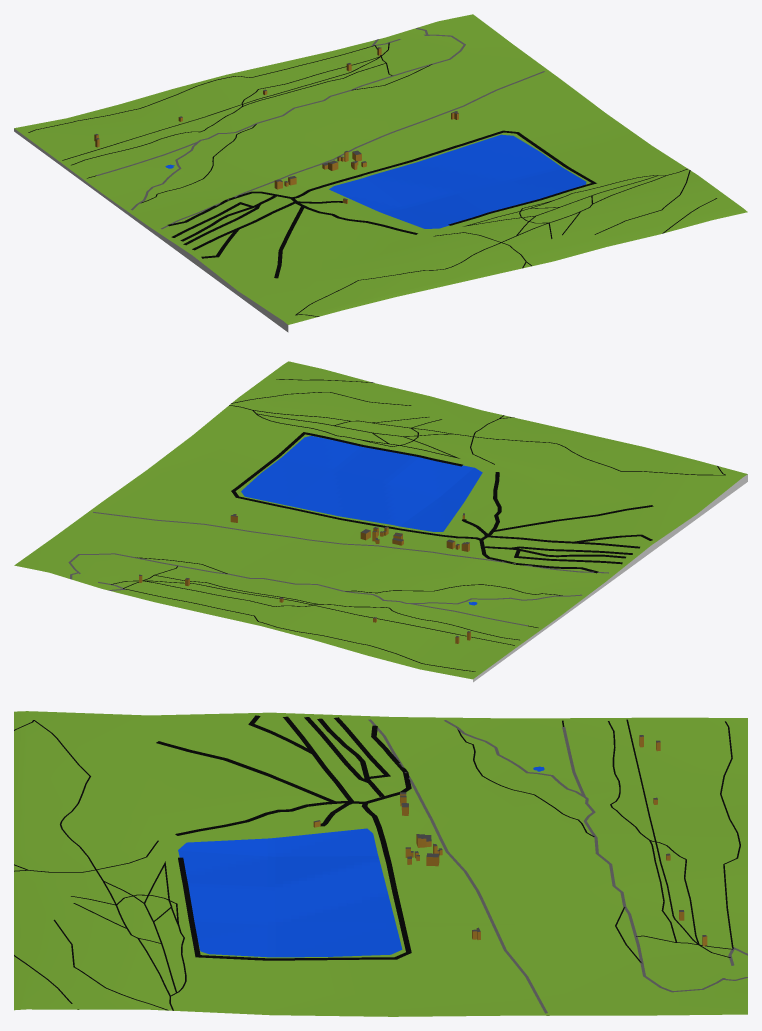
Rendered from tile_00_01.glb.
3 views of the same model, one above another, from view 1: azimuth 30°, elevation 25°; view 2: azimuth 150°, elevation 25°; view 3: azimuth 270°, elevation 25° (orthographic). The views are drawn at different scales.
Visible parts, largest first — view 1: Terrain_00_01, Ub_small.osm_water_00_01, Ub_small.osm_paths_footway_00_01, Ub_small.osm_roads_residential_00_01, Ub_small.osm_roads_service_00_01, Ub_small.osm_roads_unclassified_00_01, Ub_small.osm_buildings_00_01; view 2: Terrain_00_01, Ub_small.osm_water_00_01, Ub_small.osm_paths_footway_00_01, Ub_small.osm_roads_residential_00_01, Ub_small.osm_roads_service_00_01, Ub_small.osm_roads_unclassified_00_01, Ub_small.osm_buildings_00_01; view 3: Terrain_00_01, Ub_small.osm_water_00_01, Ub_small.osm_paths_footway_00_01, Ub_small.osm_roads_residential_00_01, Ub_small.osm_roads_service_00_01, Ub_small.osm_roads_unclassified_00_01, Ub_small.osm_buildings_00_01.
Part boxes in pixels (left/top/right/bottom): Terrain_00_01: left=14, top=14, right=747, bottom=332; Ub_small.osm_water_00_01: left=165, top=134, right=586, bottom=228; Ub_small.osm_paths_footway_00_01: left=28, top=42, right=716, bottom=316; Ub_small.osm_roads_residential_00_01: left=168, top=191, right=342, bottom=278; Ub_small.osm_roads_service_00_01: left=96, top=28, right=544, bottom=229; Ub_small.osm_roads_unclassified_00_01: left=289, top=130, right=596, bottom=234; Ub_small.osm_buildings_00_01: left=94, top=47, right=458, bottom=203; Terrain_00_01: left=14, top=361, right=747, bottom=682; Ub_small.osm_water_00_01: left=241, top=436, right=482, bottom=605; Ub_small.osm_paths_footway_00_01: left=111, top=379, right=725, bottom=671; Ub_small.osm_roads_residential_00_01: left=462, top=505, right=653, bottom=573; Ub_small.osm_roads_service_00_01: left=68, top=512, right=608, bottom=626; Ub_small.osm_roads_unclassified_00_01: left=231, top=432, right=501, bottom=540; Ub_small.osm_buildings_00_01: left=139, top=513, right=470, bottom=643; Terrain_00_01: left=14, top=711, right=747, bottom=1016; Ub_small.osm_water_00_01: left=178, top=766, right=544, bottom=957; Ub_small.osm_paths_footway_00_01: left=14, top=719, right=740, bottom=1010; Ub_small.osm_roads_residential_00_01: left=156, top=715, right=411, bottom=826; Ub_small.osm_roads_service_00_01: left=368, top=719, right=747, bottom=1015; Ub_small.osm_roads_unclassified_00_01: left=175, top=801, right=411, bottom=960; Ub_small.osm_buildings_00_01: left=313, top=735, right=707, bottom=946.
Size of the model in its own units: 898 by 24.26 by 930.
